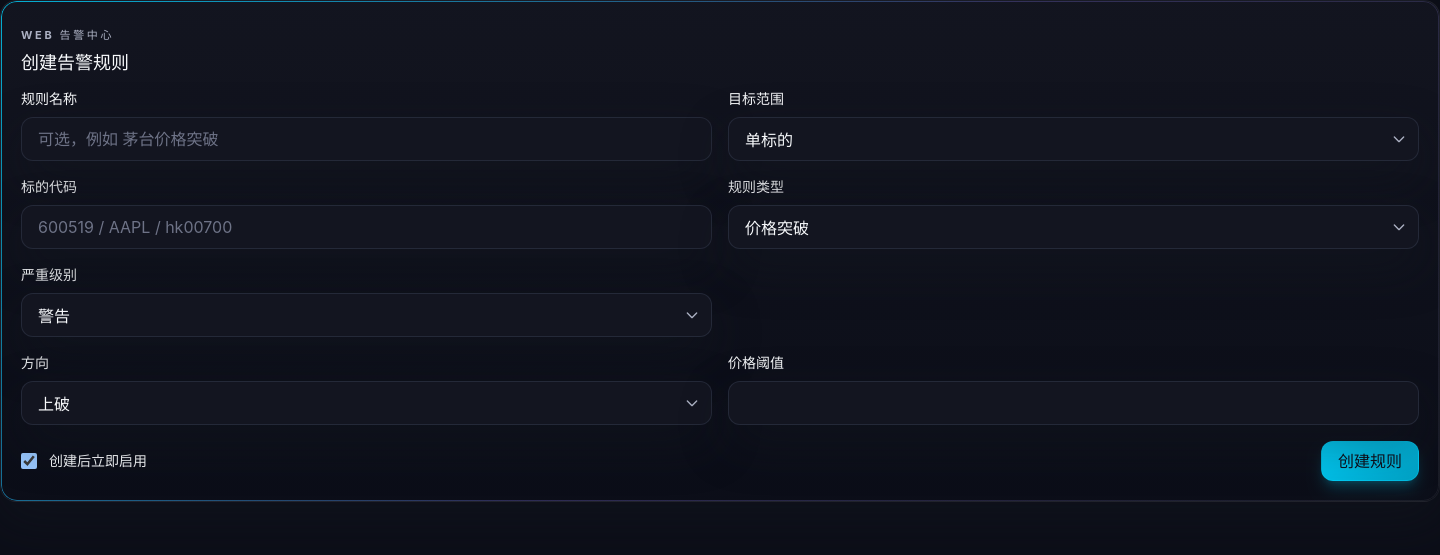
Test: AlertRuleForm › rejects invalid numeric thresholds before submit
Step 1. Type "600519" into the field labelled "标的代码" → {"x": 366, "y": 227}, box 21,205 -> 712,249
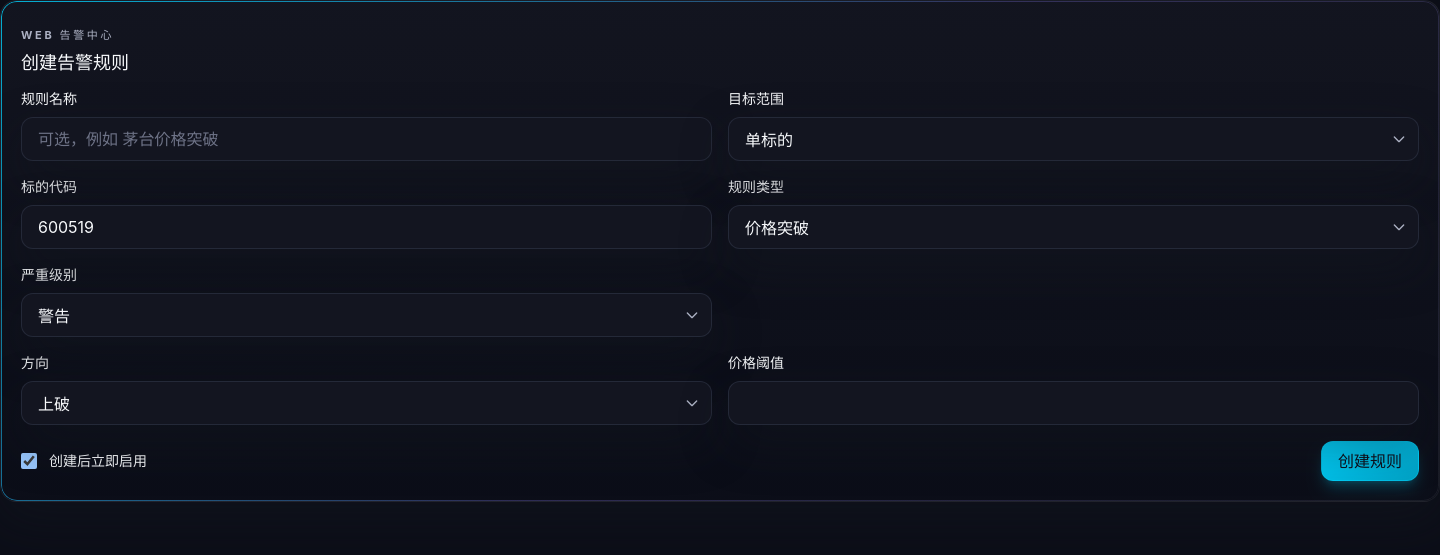
Step 2. Type "0" into the number field labelled "价格阈值" → {"x": 1074, "y": 403}, box 728,381 -> 1419,425
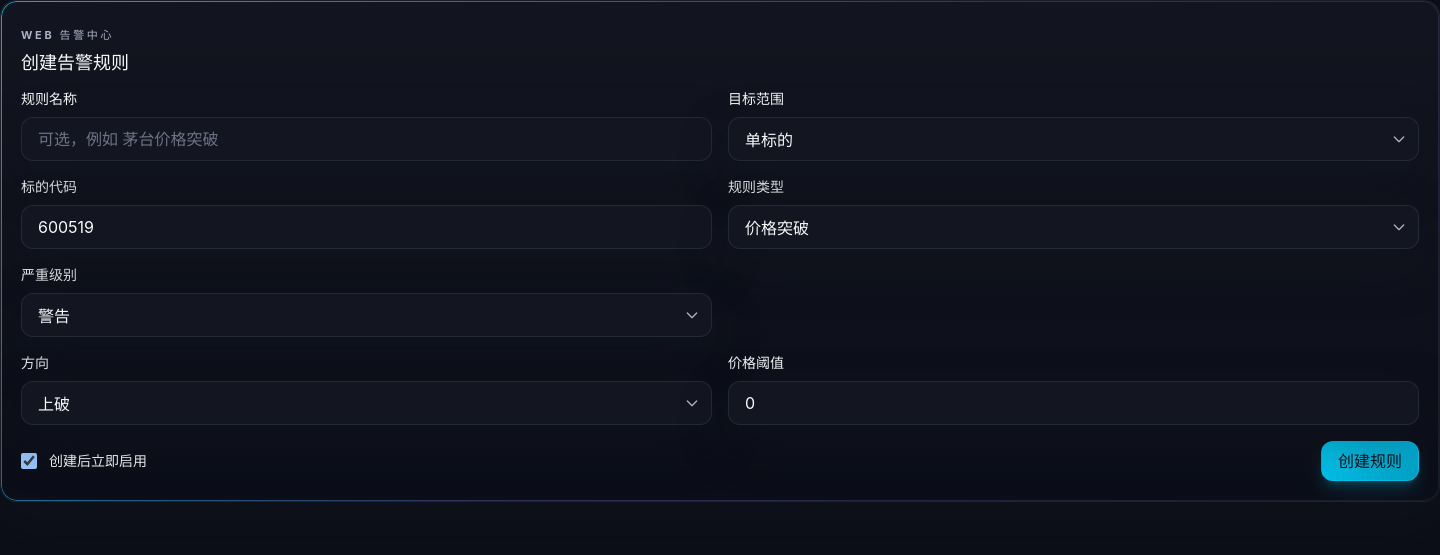
Step 3. Click the button "创建规则" → {"x": 1370, "y": 461}, box 1321,441 -> 1419,481
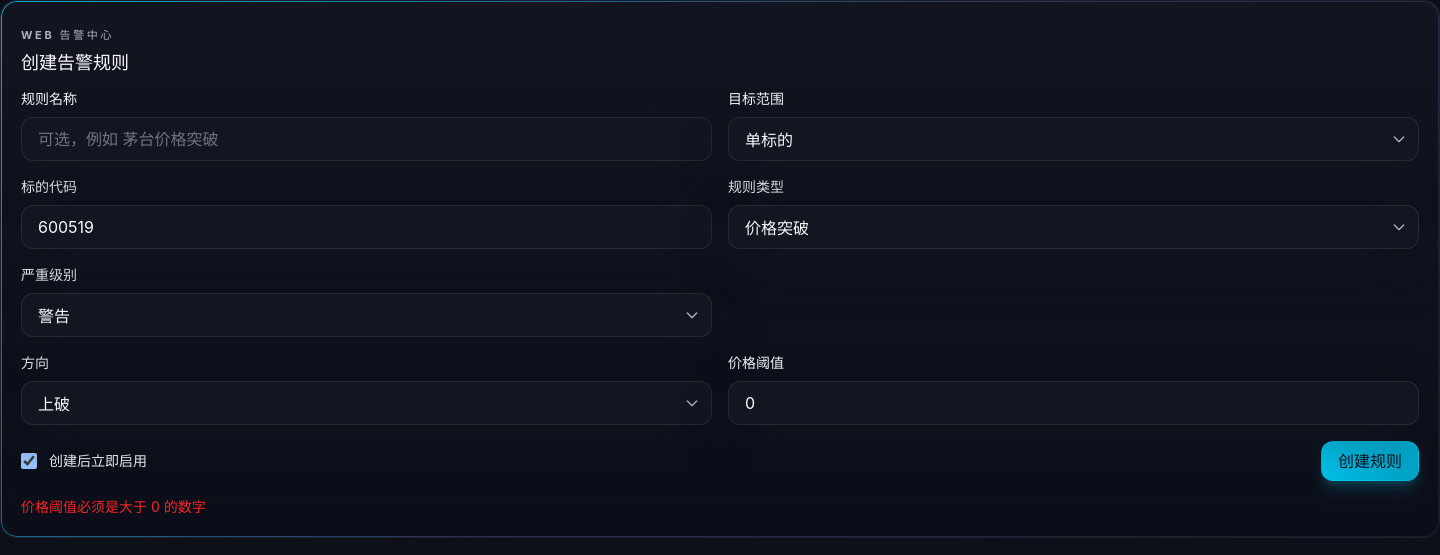
Check: the message reads "价格阈值必须是大于 0 的数字", box 21,498 -> 206,515
